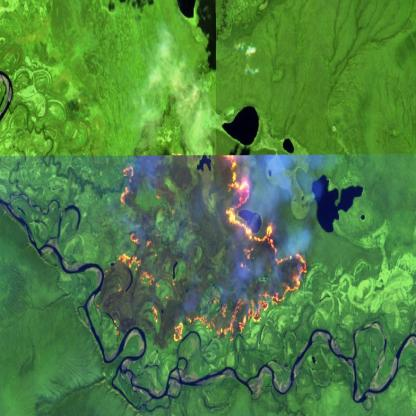fire: (108, 153, 311, 345)
